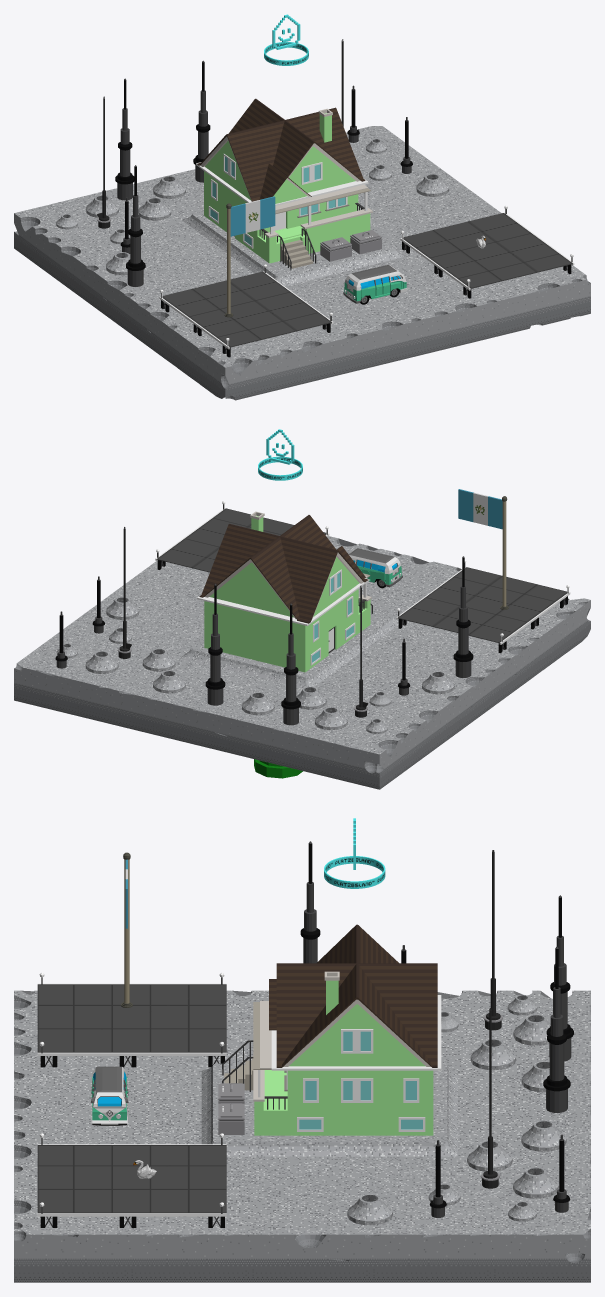
3 renders of one model, top to bottom at view 1: azimuth 30°, elevation 25°; view 2: azimuth 150°, elevation 25°; view 3: azimuth 270°, elevation 25°, orthographic. The views are drawn at different scales.
Visible parts, largest first — view 1: Cube.027, Cube.274, Cube.026, Cube.025, Cube.028, OBJRANDOM_GUATEMALAN_FLAG, VEHICLES_VAN, Cylinder.021, Cylinder.020, Cylinder.017, TYPE_PREMIUM, Cube.029 (+4 smaller); view 2: Cube.027, Cube.274, Cube.025, Cube.028, Cube.026, OBJRANDOM_GUATEMALAN_FLAG, VEHICLES_VAN, Cylinder.017, Cylinder.021, Cylinder.020, TYPE_PREMIUM, Cylinder.030 (+9 smaller); view 3: Cube.027, Cube.274, Cube.025, Cube.026, Cube.028, Cylinder.017, VEHICLES_VAN, Cylinder.020, Cylinder.021, TYPE_PREMIUM, Cylinder.033, Cylinder.031 (+11 smaller).
Boxes of the visible parts, x1,y1,x2,y2 form: Cube.027: [14, 126, 590, 400]; Cube.274: [196, 98, 372, 269]; Cube.026: [400, 205, 574, 298]; Cube.025: [159, 264, 333, 357]; Cube.028: [182, 211, 403, 286]; OBJRANDOM_GUATEMALAN_FLAG: [224, 196, 275, 317]; VEHICLES_VAN: [343, 264, 407, 304]; Cylinder.021: [126, 165, 145, 286]; Cylinder.020: [115, 78, 134, 200]; Cylinder.017: [193, 60, 210, 182]; TYPE_PREMIUM: [264, 14, 308, 65]; Cube.029: [320, 237, 351, 261]; Cube.027: [14, 536, 590, 789]; Cube.274: [197, 511, 372, 672]; Cube.025: [396, 560, 570, 653]; Cube.028: [181, 610, 398, 688]; Cube.026: [155, 501, 329, 572]; OBJRANDOM_GUATEMALAN_FLAG: [458, 489, 508, 609]; VEHICLES_VAN: [348, 548, 402, 588]; Cylinder.017: [205, 583, 225, 705]; Cylinder.021: [453, 556, 473, 677]; Cylinder.020: [281, 603, 300, 725]; TYPE_PREMIUM: [258, 429, 302, 480]; Cylinder.030: [142, 648, 175, 671]; Cube.027: [14, 990, 590, 1282]; Cube.274: [222, 924, 441, 1135]; Cube.025: [37, 973, 226, 1067]; Cube.026: [37, 1133, 226, 1227]; Cube.028: [201, 1063, 457, 1156]; Cylinder.017: [543, 946, 570, 1112]; VEHICLES_VAN: [90, 1066, 128, 1125]; Cylinder.020: [546, 895, 573, 1061]; Cylinder.021: [300, 841, 320, 963]; TYPE_PREMIUM: [324, 818, 385, 888]; Cylinder.033: [347, 1194, 392, 1225]; Cylinder.031: [513, 1167, 558, 1198].
Size of the model in its own units: 4000 by 3287 by 4000.
Materials: 42 (5 with a texture image).
